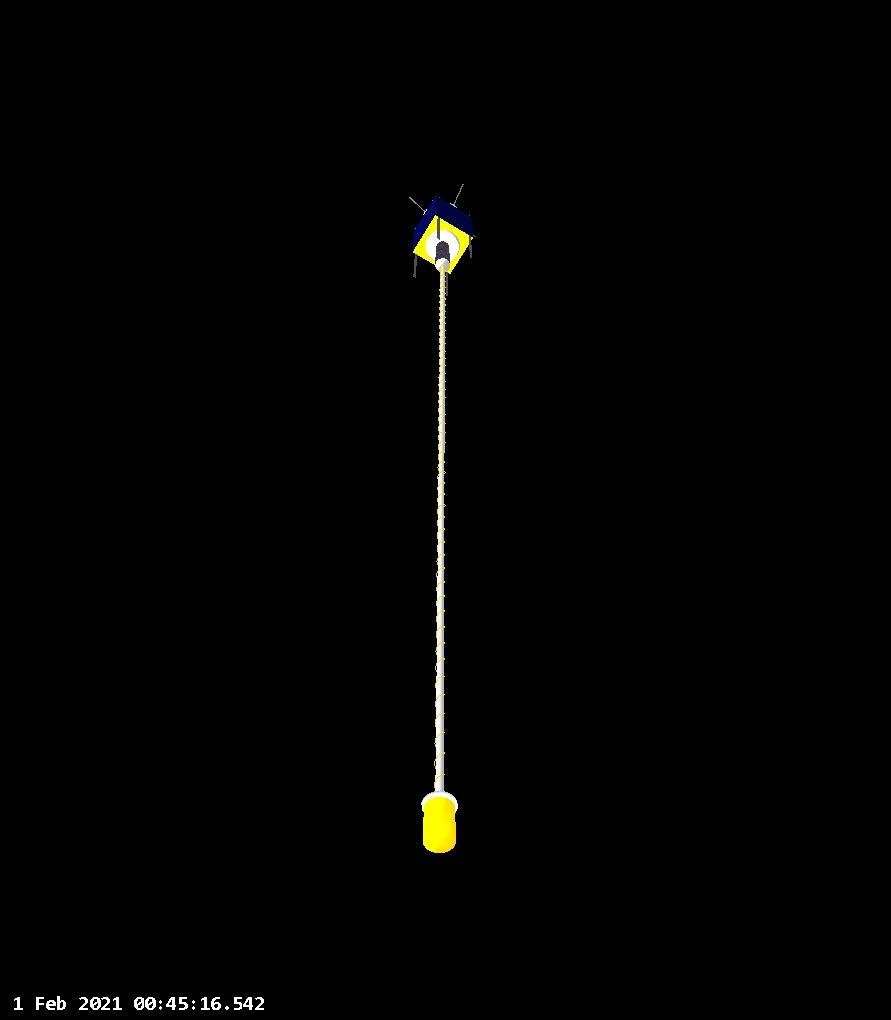antenna: (414, 227, 475, 859), (447, 172, 472, 215), (400, 188, 432, 218)
body: (408, 193, 479, 278)
